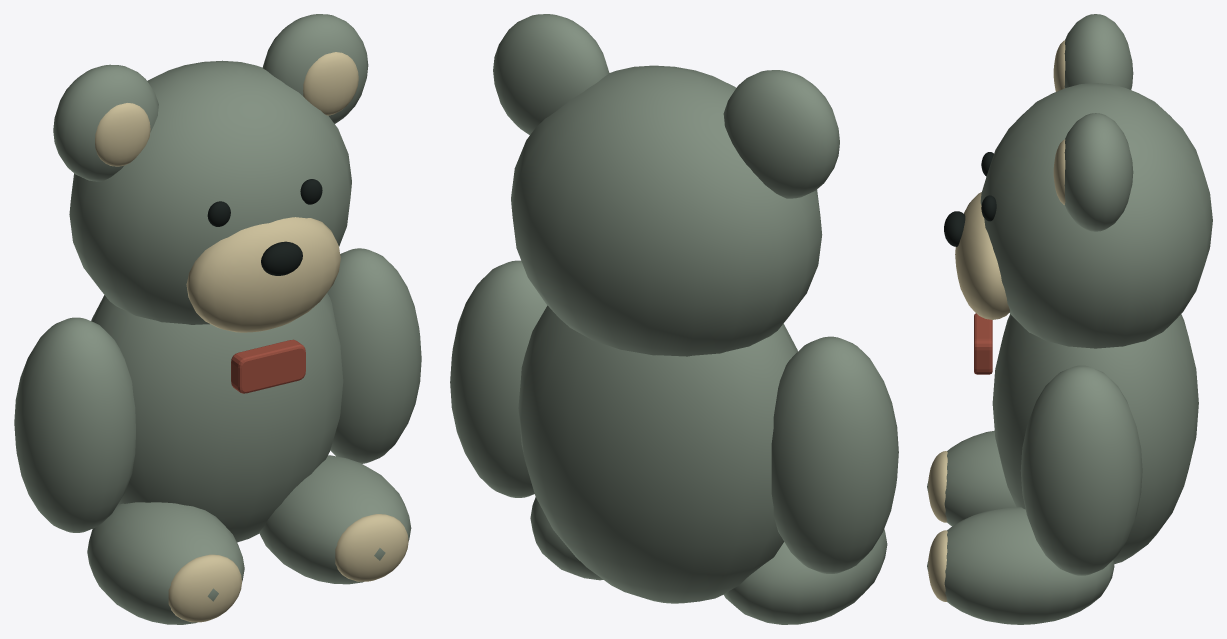
File: memory-bear.glb
3 renders of one model, left to right at view 1: azimuth 30°, elevation 25°; view 2: azimuth 150°, elevation 25°; view 3: azimuth 270°, elevation 25°, orthographic. The views are drawn at different scales.
Visible parts, largest first — view 1: memory-bear-cloth, memory-bear-ivory, memory-bear-red, memory-bear-rubber; view 2: memory-bear-cloth; view 3: memory-bear-cloth, memory-bear-ivory, memory-bear-rubber, memory-bear-red.
Part boxes in pixels (x1,y1,x2,y2): memory-bear-cloth: [14, 14, 421, 624]; memory-bear-ivory: [95, 52, 408, 622]; memory-bear-red: [231, 339, 305, 393]; memory-bear-rubber: [207, 179, 322, 275]; memory-bear-cloth: [450, 14, 898, 624]; memory-bear-cloth: [927, 14, 1212, 624]; memory-bear-ivory: [928, 40, 1065, 601]; memory-bear-rubber: [944, 152, 996, 246]; memory-bear-red: [974, 313, 992, 374].
Size of the model in its own units: 0.47 by 0.599 by 0.305.
